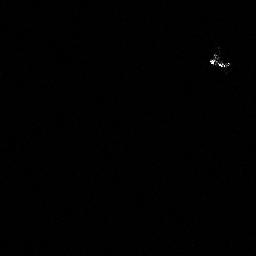ship: (208, 55, 232, 68)
